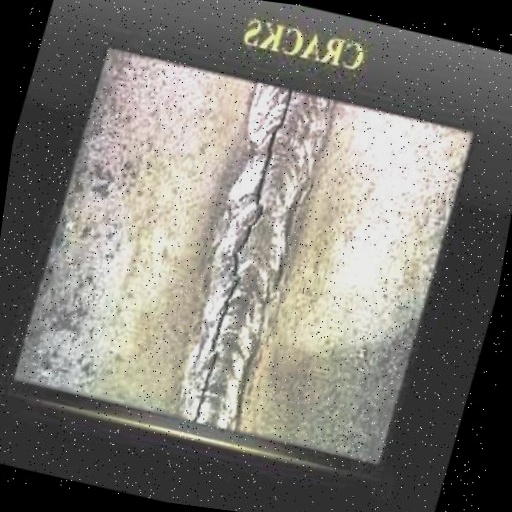crack: (175, 78, 313, 433)
